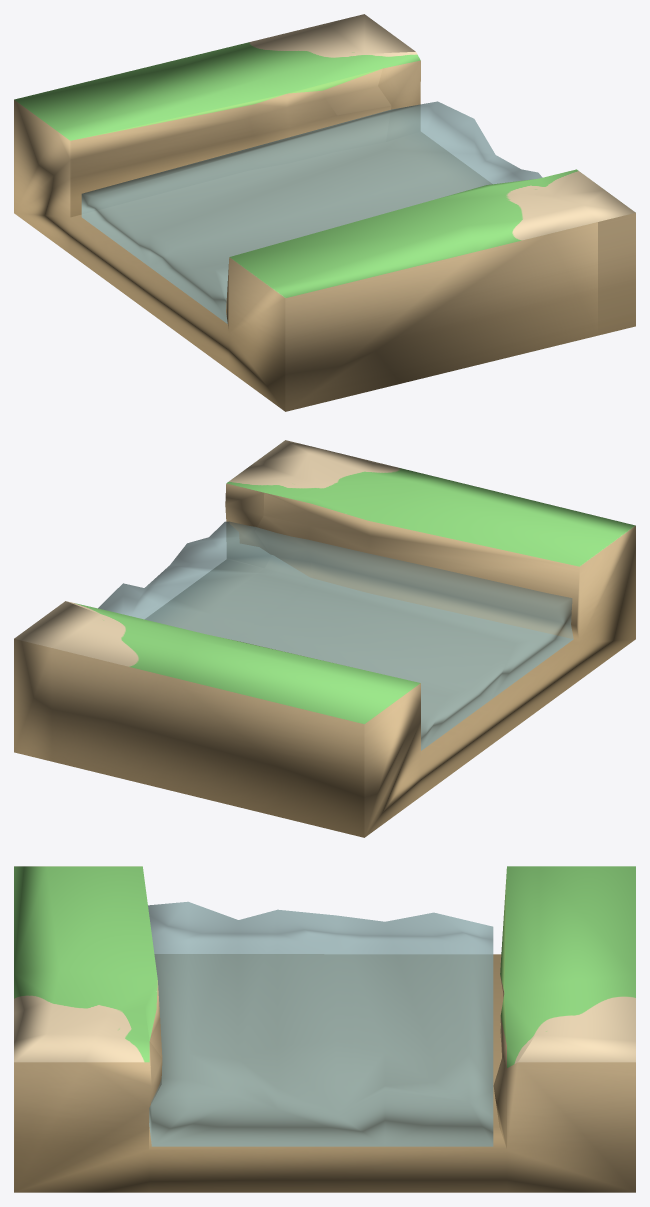
The model's file is ground_left2.fbx.
3 views of the same model, one above another, from view 1: azimuth 30°, elevation 25°; view 2: azimuth 150°, elevation 25°; view 3: azimuth 270°, elevation 25° (orthographic). The views are drawn at different scales.
Visible parts, largest first — view 1: baseright, river; view 2: baseright, river; view 3: baseright, river.
Part boxes in pixels (x1=…): baseright: x1=14, y1=14, x2=635, y2=411; river: x1=81, y1=101, x2=542, y2=323; baseright: x1=14, y1=440, x2=635, y2=837; river: x1=98, y1=521, x2=573, y2=750; baseright: x1=14, y1=866, x2=635, y2=1192; river: x1=148, y1=901, x2=493, y2=1146.
Size of the model in its own units: 10.51 by 3.5 by 14.08.
5 materials, 3 textured.
